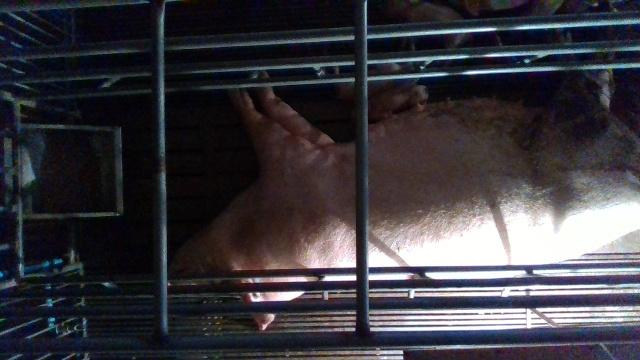piglet: (387, 0, 469, 52), (332, 64, 405, 98), (368, 84, 428, 121), (461, 0, 532, 17)
sow-sleep-lactate: (168, 72, 640, 331)
